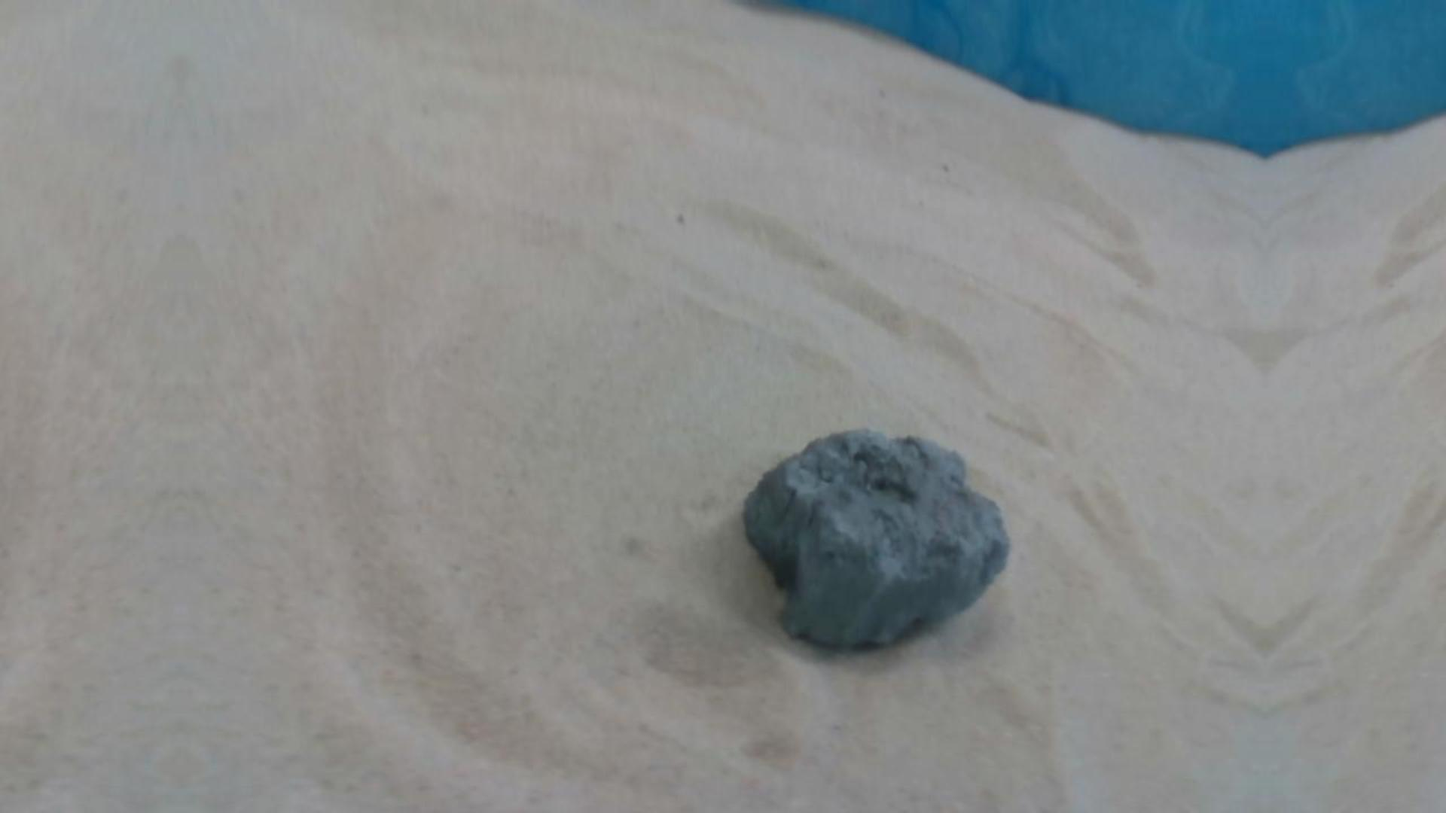rock: (743, 429, 1008, 646)
